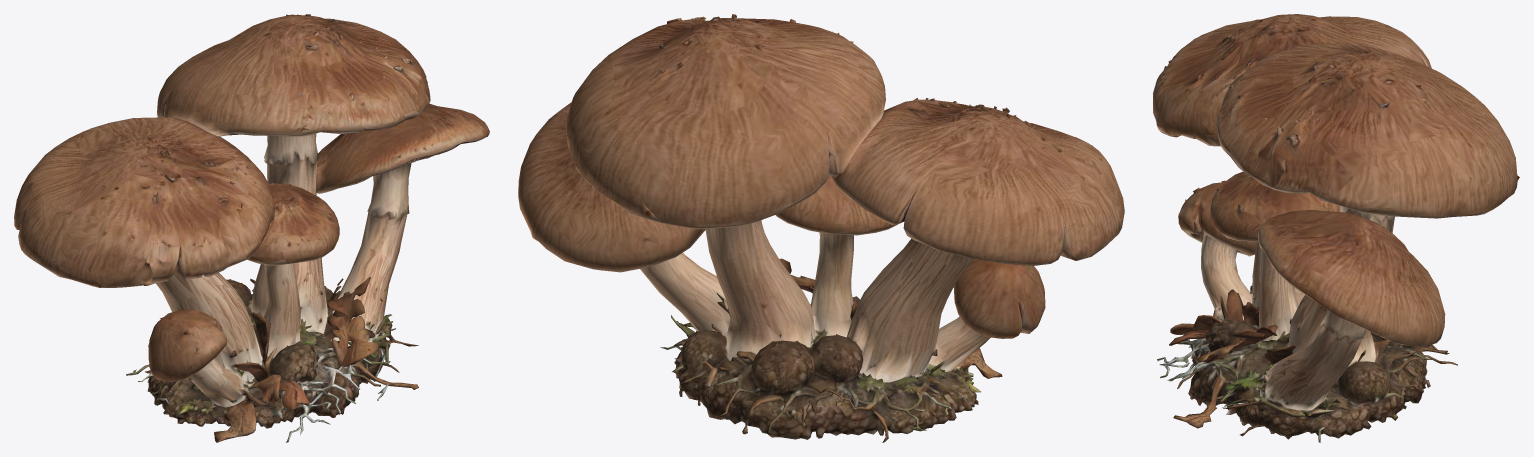
The model's file is mushroom.glb.
The picture shows the model from 3 angles, left to right: view 1: azimuth 30°, elevation 25°; view 2: azimuth 150°, elevation 25°; view 3: azimuth 270°, elevation 25°; orthographic projection. The views are drawn at different scales.
Parts seen in each view (by area): view 1: tripo_node_4b4d5fbc-4be4-4c9d-8fff-2da80085759b; view 2: tripo_node_4b4d5fbc-4be4-4c9d-8fff-2da80085759b; view 3: tripo_node_4b4d5fbc-4be4-4c9d-8fff-2da80085759b.
Part boxes in pixels (x1,y1,x2,y2): tripo_node_4b4d5fbc-4be4-4c9d-8fff-2da80085759b: (14, 14, 489, 442); tripo_node_4b4d5fbc-4be4-4c9d-8fff-2da80085759b: (518, 14, 1124, 442); tripo_node_4b4d5fbc-4be4-4c9d-8fff-2da80085759b: (1153, 14, 1519, 442).
Bounding box in the file's own units: 0.9999 × 0.6618 × 0.6115.
Materials: 1 (1 with a texture image).
